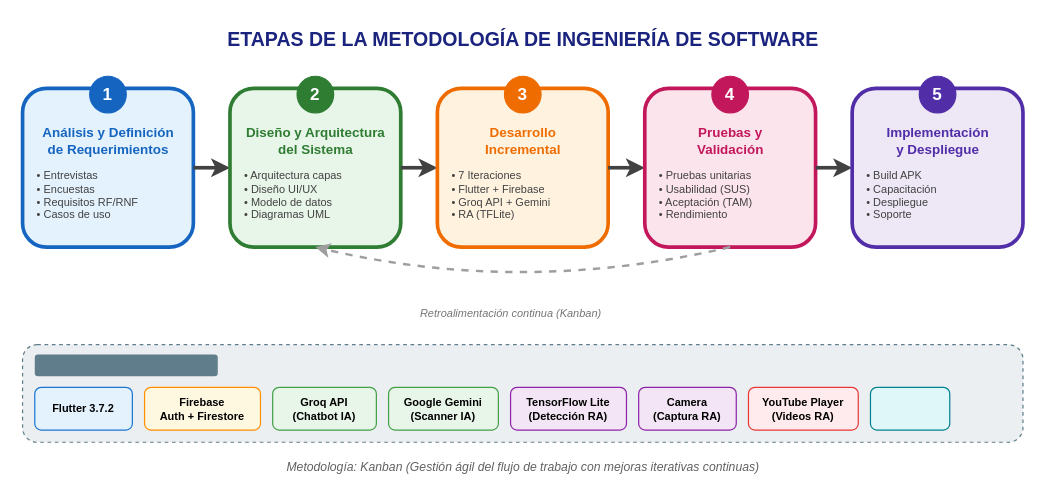
This 1046x499 diagram has some shape labels left out. The centre of each missing label's shape, as x and y in pixels:
"Speech to Text" goes at point (909, 408).
"TECNOLOGÍAS UTILIZADAS" goes at point (125, 365).
